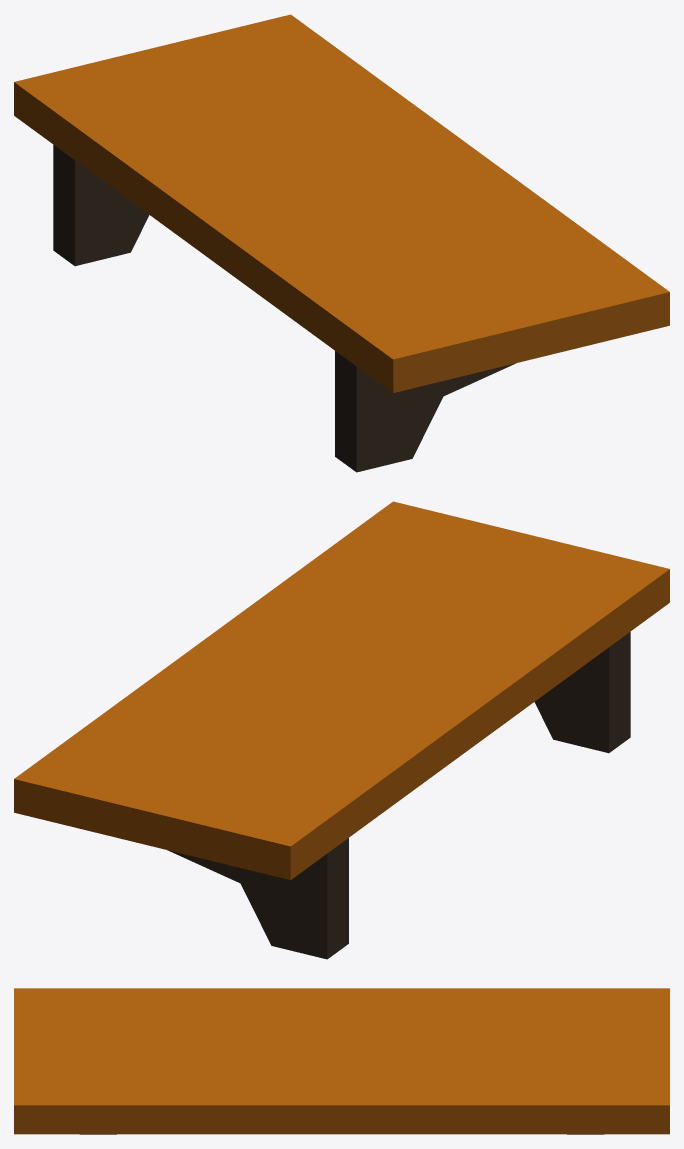
Rendered from Shelf.fbx.
3 views of the same model, one above another, from view 1: azimuth 30°, elevation 25°; view 2: azimuth 150°, elevation 25°; view 3: azimuth 270°, elevation 25° (orthographic). The views are drawn at different scales.
Visible parts, largest first — view 1: Shelf; view 2: Shelf; view 3: Shelf.
Boxes of the visible parts, x1,y1,x2,y2 form: Shelf: (14,14,669,472); Shelf: (14,501,669,959); Shelf: (14,988,669,1134).
Bounding box in the file's own units: 0.5131 × 0.2499 × 1.22.
